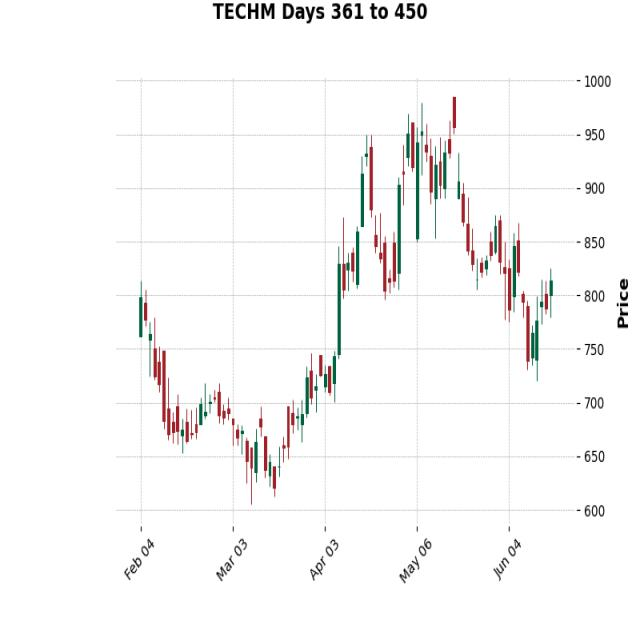Double Top: (397, 88, 476, 245)
